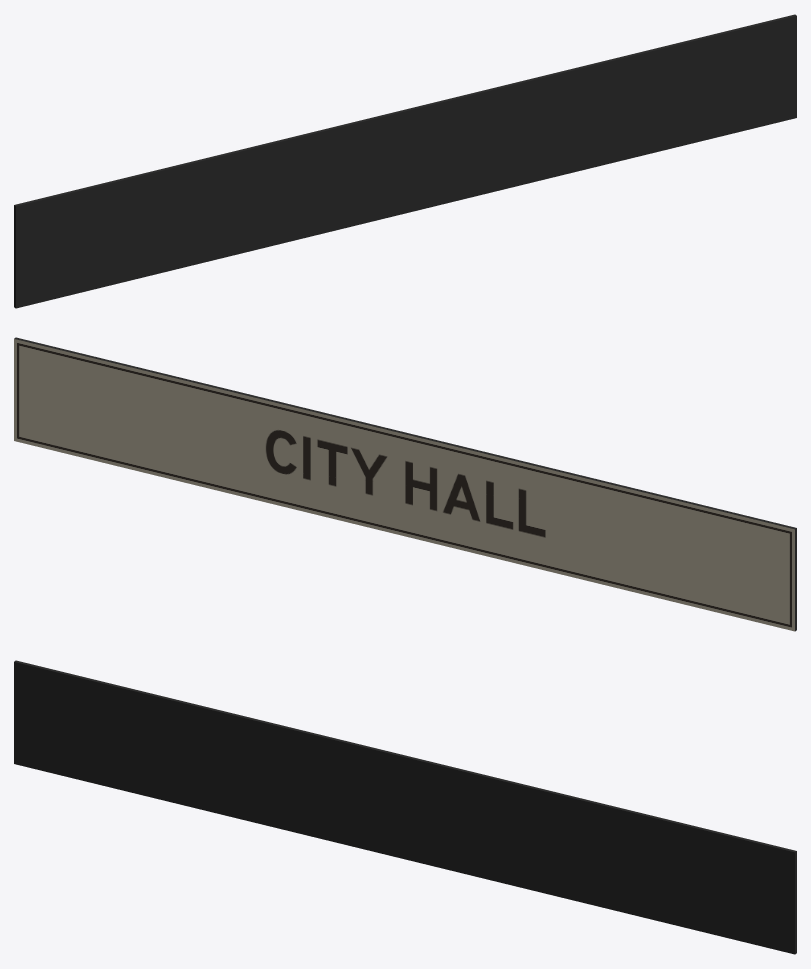
File: storefront_sign_city_hall.glb
3 views of the same model, one above another, from view 1: azimuth 30°, elevation 25°; view 2: azimuth 150°, elevation 25°; view 3: azimuth 330°, elevation 25° (orthographic).
Parts seen in each view (by area): view 1: sign_city_hall_back; view 2: sign_city_hall, sign_city_hall_back; view 3: sign_city_hall_back.
Boxes of the visible parts, x1,y1,x2,y2 form: sign_city_hall_back: [14, 14, 796, 308]; sign_city_hall: [14, 339, 794, 631]; sign_city_hall_back: [14, 337, 796, 631]; sign_city_hall_back: [14, 660, 796, 954].
Bounding box in the file's own units: 4.8 × 0.6 × 0.0205.
Materials: 2 (1 with a texture image).
